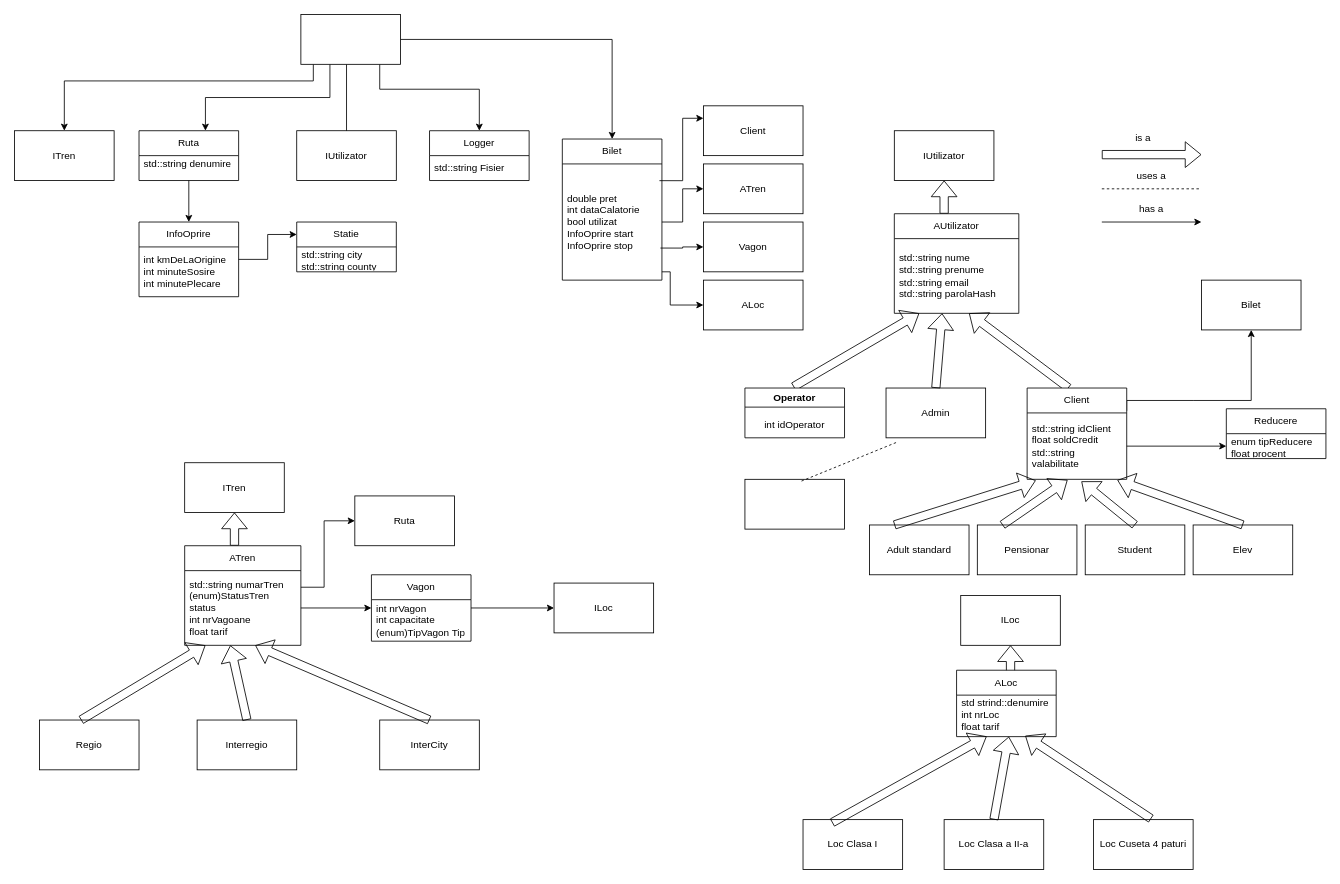
This 1340x884 diagram has some shape labels left out. The shapes that lost their labels are listed below. From the top down, each one's centre as x and y in pixels, then its label:
[350,39]: Aplicatie
[794,503]: Verifica ID
